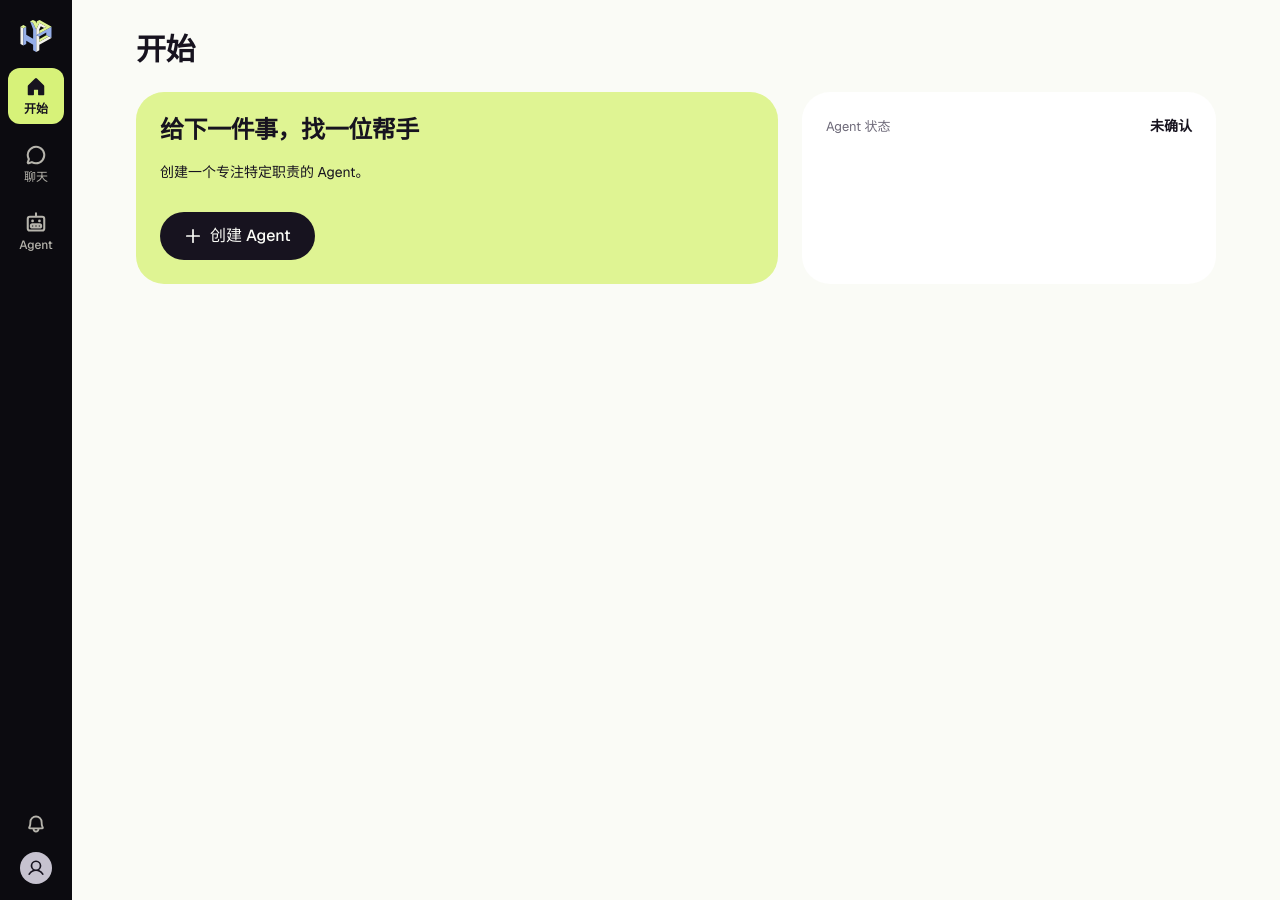
it: agents directory (read-side wiring) › shows confirmed absence of provider grants without inventing one
Click the button "Agent".
click(36, 232)  # box x1=8 y1=204 x2=64 y2=260
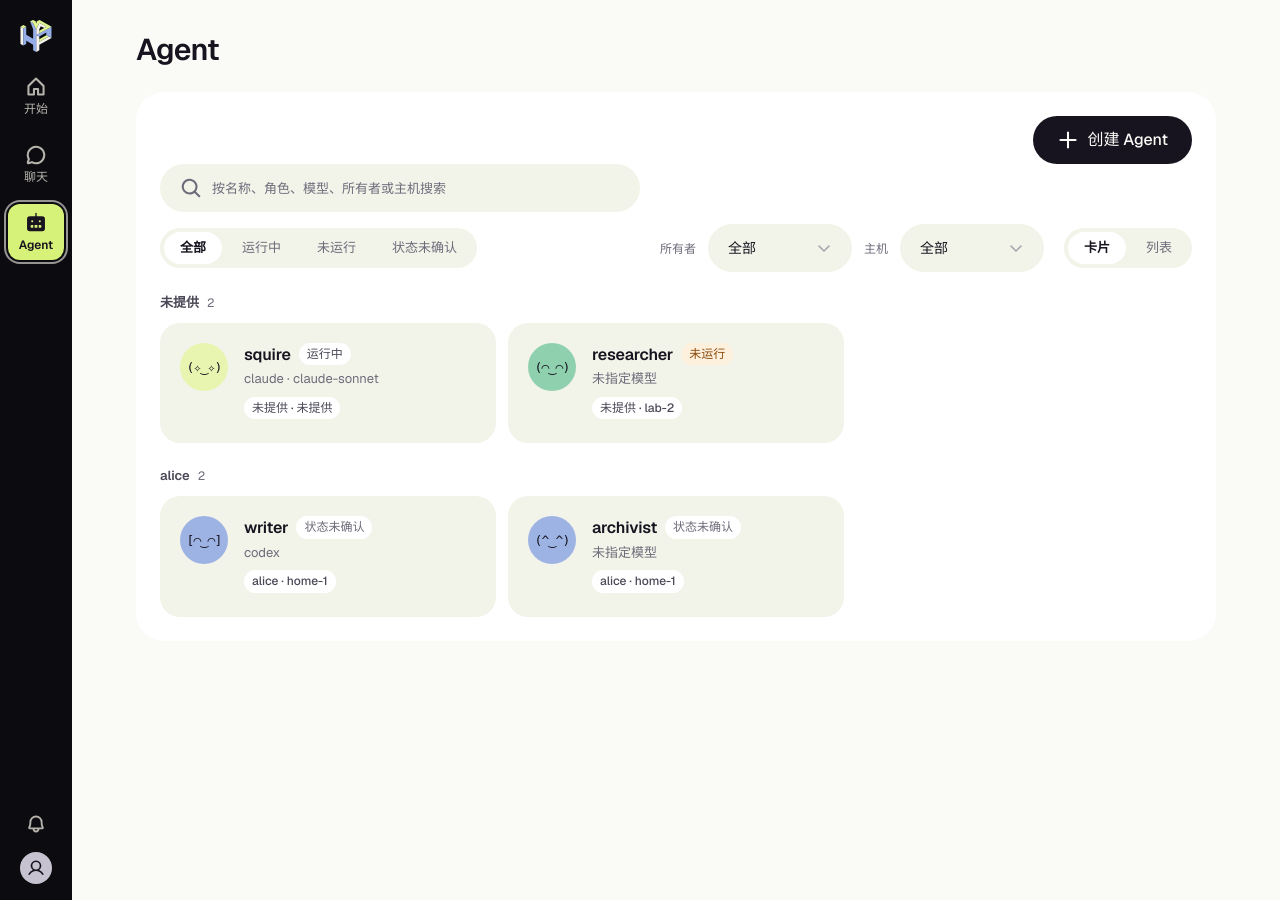
Click the button with test id "contact-researcher".
click(552, 367)  # box x1=508 y1=323 x2=844 y2=443
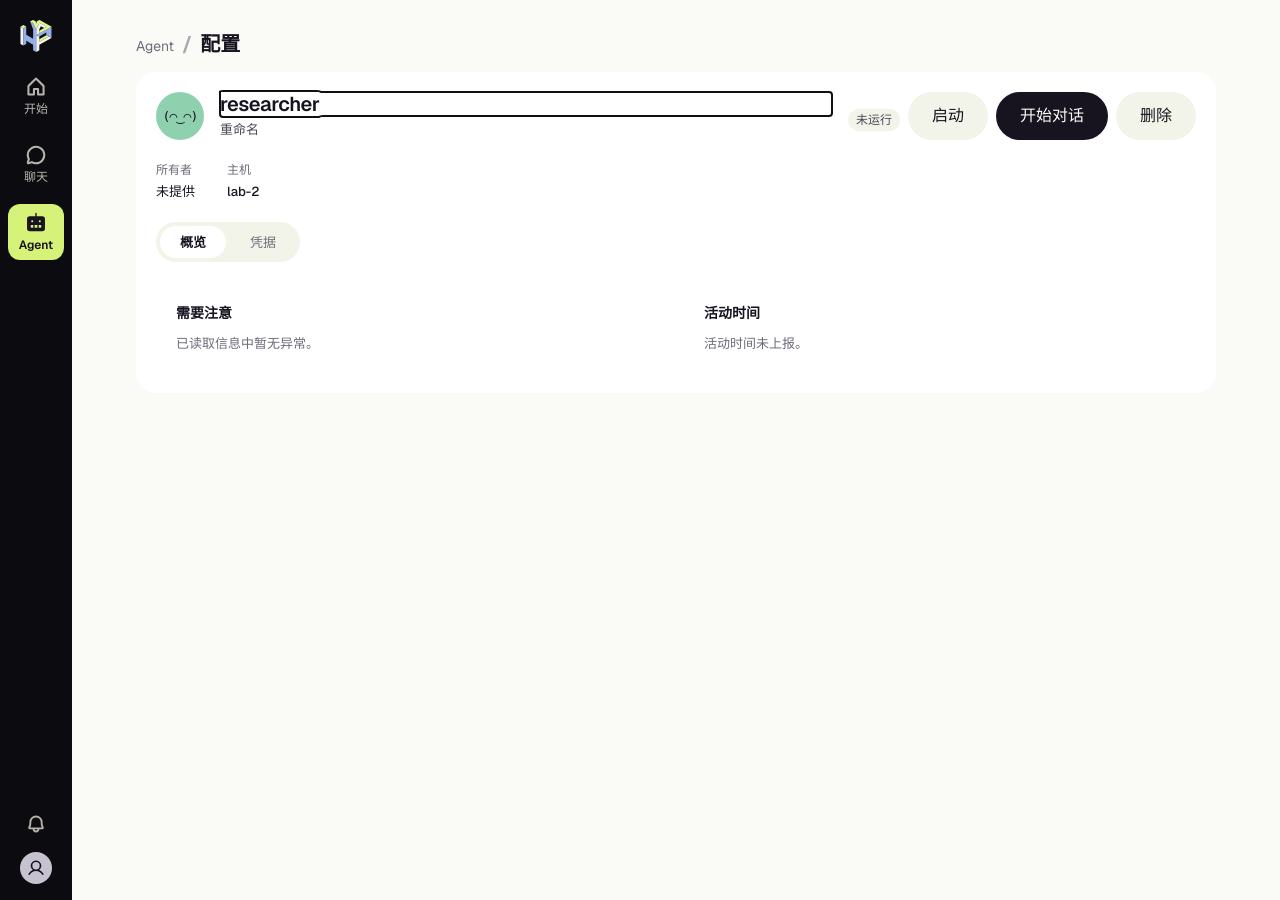
Click the tab "凭据".
click(263, 242)  # box x1=230 y1=226 x2=296 y2=258
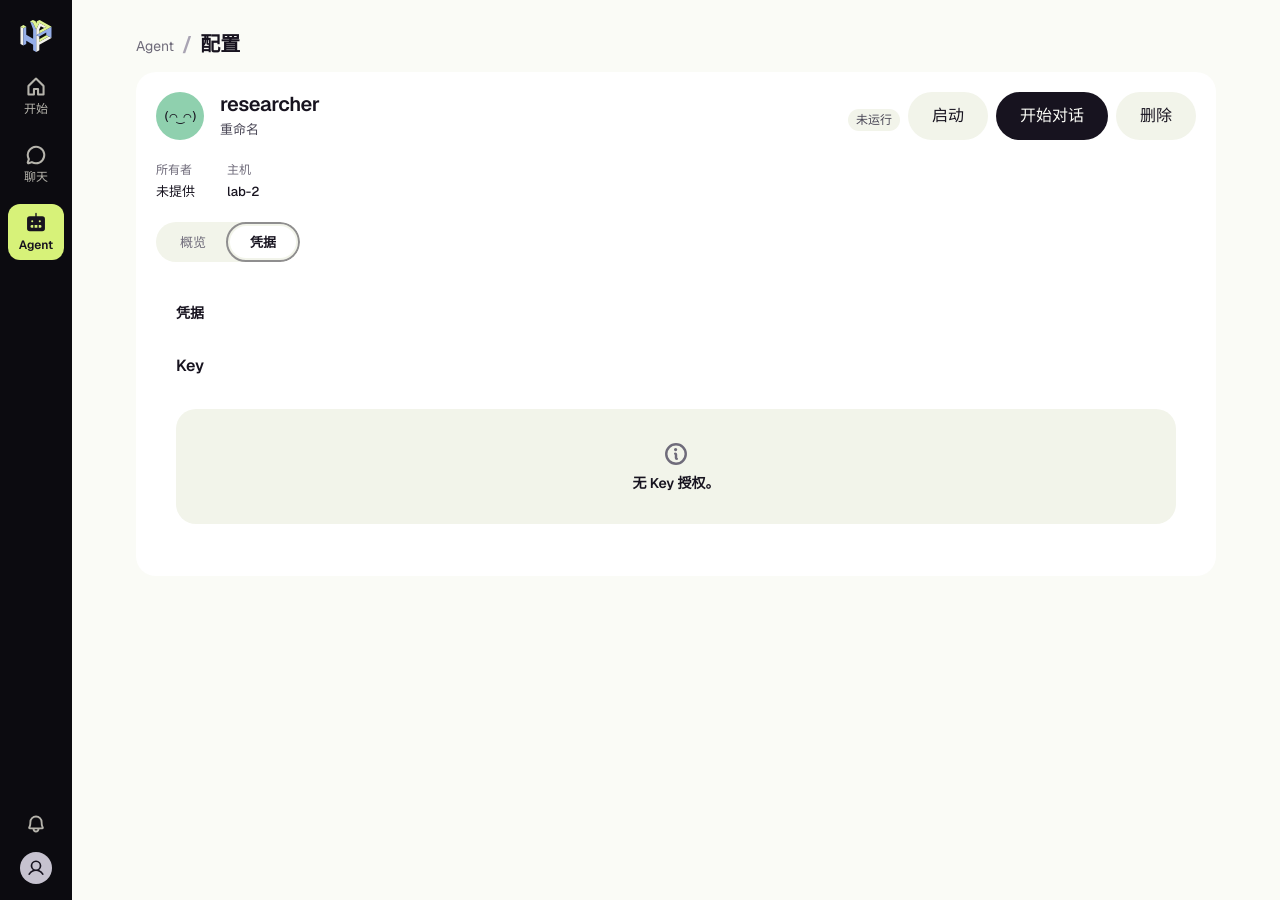
Expected: the button "开始对话" is enabled, x1=996 y1=92 x2=1108 y2=140
Expected: the text "无 Key 授权。" is shown, x1=632 y1=475 x2=720 y2=492
